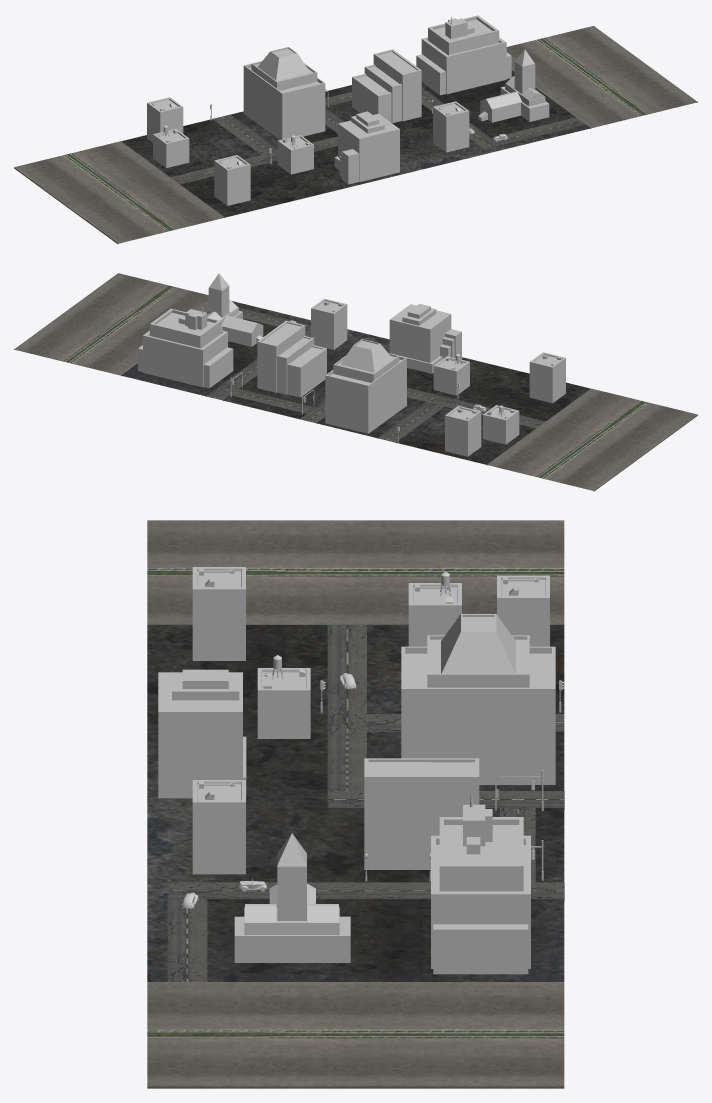
Rendered from Block_21.fbx.
3 renders of one model, top to bottom at view 1: azimuth 30°, elevation 25°; view 2: azimuth 150°, elevation 25°; view 3: azimuth 270°, elevation 25°, orthographic. The views are drawn at different scales.
Visible parts, largest first — view 1: pasted__polySurface1348; view 2: pasted__polySurface1348; view 3: pasted__polySurface1348.
Part boxes in pixels (x1,y1,x2,y2): pasted__polySurface1348: (14,15,697,244); pasted__polySurface1348: (14,273,697,491); pasted__polySurface1348: (147,520,564,1088).
Size of the model in its own units: 459 by 143 by 54.23.
